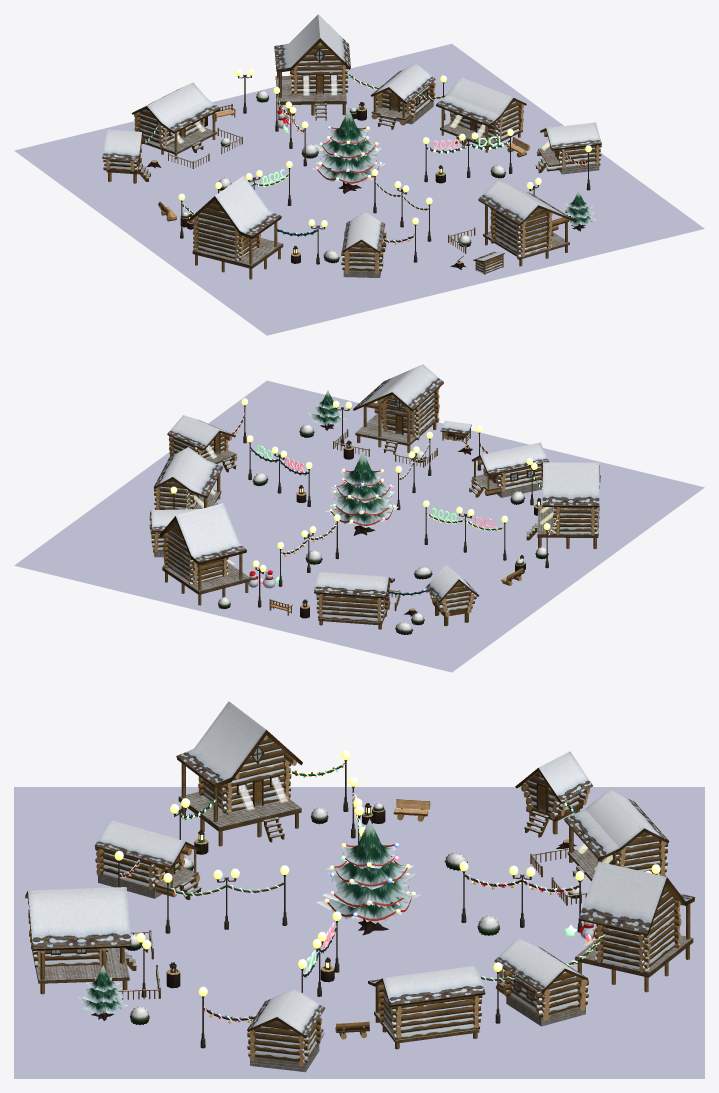
File: XMASTown2.glb
The picture shows the model from 3 angles, top to bottom: view 1: azimuth 30°, elevation 25°; view 2: azimuth 150°, elevation 25°; view 3: azimuth 270°, elevation 25°; orthographic projection. The views are drawn at different scales.
Parts seen in each view (by area): view 1: Plane, Log_House_F, Log_House_F_1, Log_House_E, Log_House_D_1, Log_House_D, Big_XMAS_Tree, Log_House_B, Log_House_C, Log_House_B_1, Log_House_A, StreetLight_Garland_B_On (+4 smaller); view 2: Plane, Log_House_F_1, Log_House_E, Log_House_F, Log_House_D, Log_House_D_1, Big_XMAS_Tree, Log_House_B_1, Log_House_C, Log_House_A, Log_House_B, Pine_Tree_B (+5 smaller); view 3: Plane, Log_House_F, Log_House_F_1, Log_House_E, Log_House_D_1, Log_House_D, Big_XMAS_Tree, Log_House_B_1, Log_House_B, Log_House_C, Log_House_A, Pine_Tree_B (+4 smaller).
Boxes of the visible parts, box(x1,y1,x2,y2) form: Plane: box(14, 44, 704, 335); Log_House_F: box(188, 175, 283, 279); Log_House_F_1: box(274, 14, 350, 120); Log_House_E: box(478, 180, 574, 266); Log_House_D_1: box(436, 77, 526, 152); Log_House_D: box(132, 82, 220, 159); Big_XMAS_Tree: box(312, 108, 385, 193); Log_House_B: box(370, 63, 435, 129); Log_House_C: box(535, 122, 601, 174); Log_House_B_1: box(341, 211, 386, 277); Log_House_A: box(102, 129, 150, 183); StreetLight_Garland_B_On: box(423, 129, 513, 182); Plane: box(14, 380, 704, 672); Log_House_F_1: box(159, 503, 250, 605); Log_House_E: box(353, 364, 443, 454); Log_House_F: box(526, 462, 600, 549); Log_House_D: box(314, 572, 394, 629); Log_House_D_1: box(153, 447, 222, 509); Big_XMAS_Tree: box(325, 449, 398, 535); Log_House_B_1: box(469, 442, 548, 497); Log_House_C: box(167, 415, 237, 472); Log_House_A: box(425, 565, 479, 626); Log_House_B: box(149, 509, 200, 557); Pine_Tree_B: box(308, 390, 345, 430); Plane: box(14, 787, 704, 1078); Log_House_F: box(176, 701, 302, 846); Log_House_F_1: box(574, 861, 695, 992); Log_House_E: box(25, 887, 136, 994); Log_House_D_1: box(368, 965, 485, 1049); Log_House_D: box(564, 789, 669, 881); Big_XMAS_Tree: box(317, 817, 420, 935); Log_House_B_1: box(94, 820, 201, 899); Log_House_B: box(494, 938, 588, 1026); Log_House_C: box(247, 988, 325, 1072); Log_House_A: box(515, 751, 592, 837); Pine_Tree_B: box(78, 965, 127, 1020).
Size of the model in its own units: 72 by 13.17 by 72.
14 materials, 6 textured.
